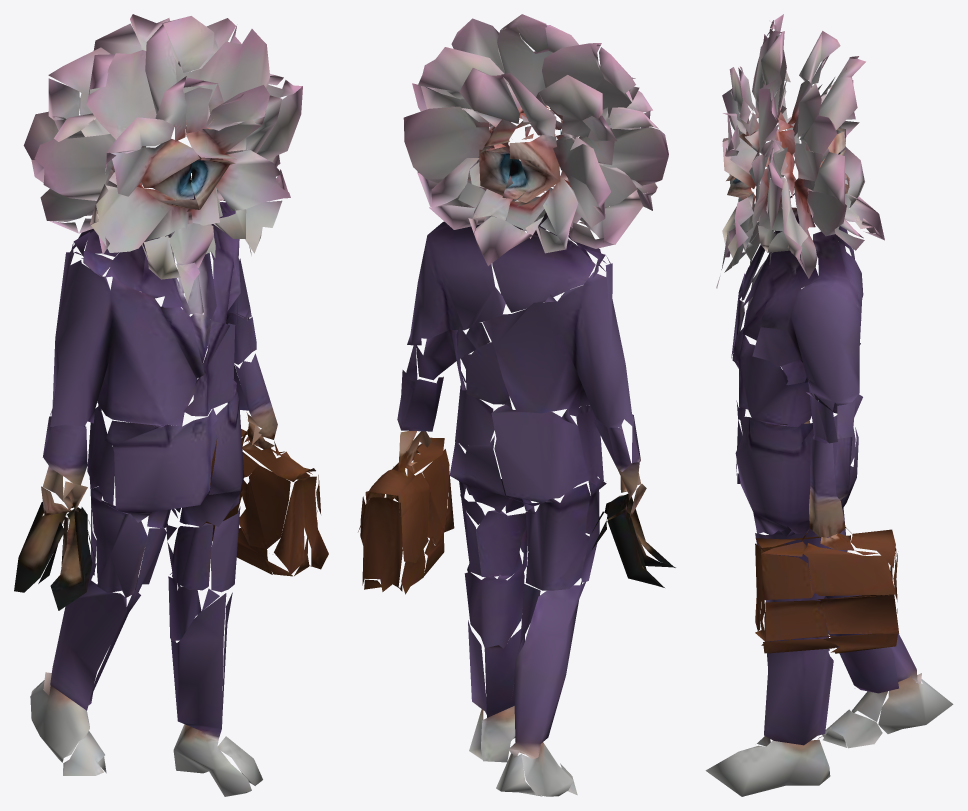
The model's file is crowd_workgirl_full.glb.
The picture shows the model from 3 angles, left to right: view 1: azimuth 30°, elevation 25°; view 2: azimuth 150°, elevation 25°; view 3: azimuth 270°, elevation 25°; orthographic projection. The views are drawn at different scales.
Visible parts, largest first — view 1: tripo_node_4dcd1692-ba07-4971-a005-472ad7834de4; view 2: tripo_node_4dcd1692-ba07-4971-a005-472ad7834de4; view 3: tripo_node_4dcd1692-ba07-4971-a005-472ad7834de4.
Boxes of the visible parts, <box> form: tripo_node_4dcd1692-ba07-4971-a005-472ad7834de4: <box>14,14,328,796</box>; tripo_node_4dcd1692-ba07-4971-a005-472ad7834de4: <box>358,14,675,796</box>; tripo_node_4dcd1692-ba07-4971-a005-472ad7834de4: <box>705,14,953,796</box>.
Bounding box in the file's own units: 0.3949 × 0.9935 × 0.3041.
1 material, 1 textured.
